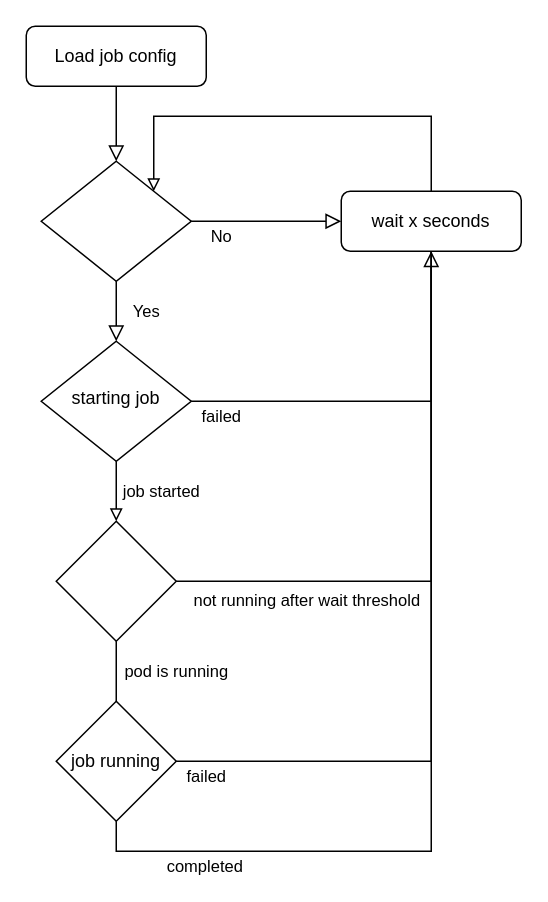
This 548x902 diagram has some shape labels left out. Here are the shapes that lost their labels. From the top down, the centre of each, then its label:
the point at 115,220: Queue has items
the point at 115,580: job pending
